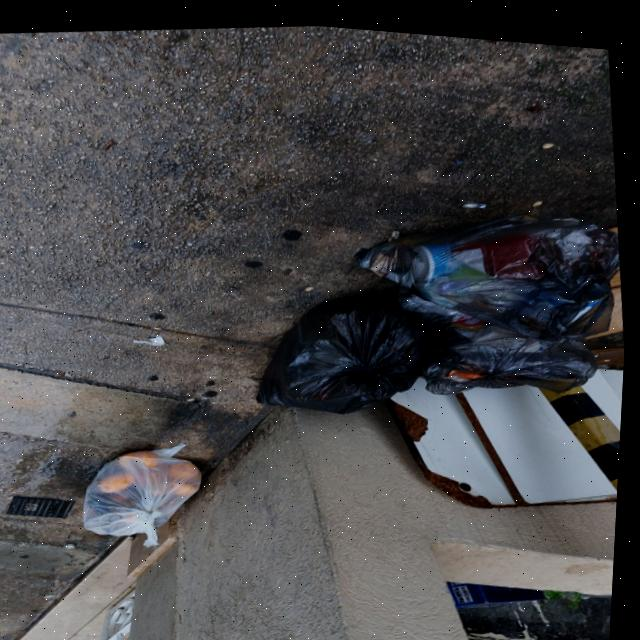Mixed Waste -Black Bag-: (347, 178, 618, 356), (245, 272, 445, 426), (421, 307, 604, 399)
Organic Waste -White Bag-: (74, 435, 216, 554)
Other: (583, 241, 631, 330)
